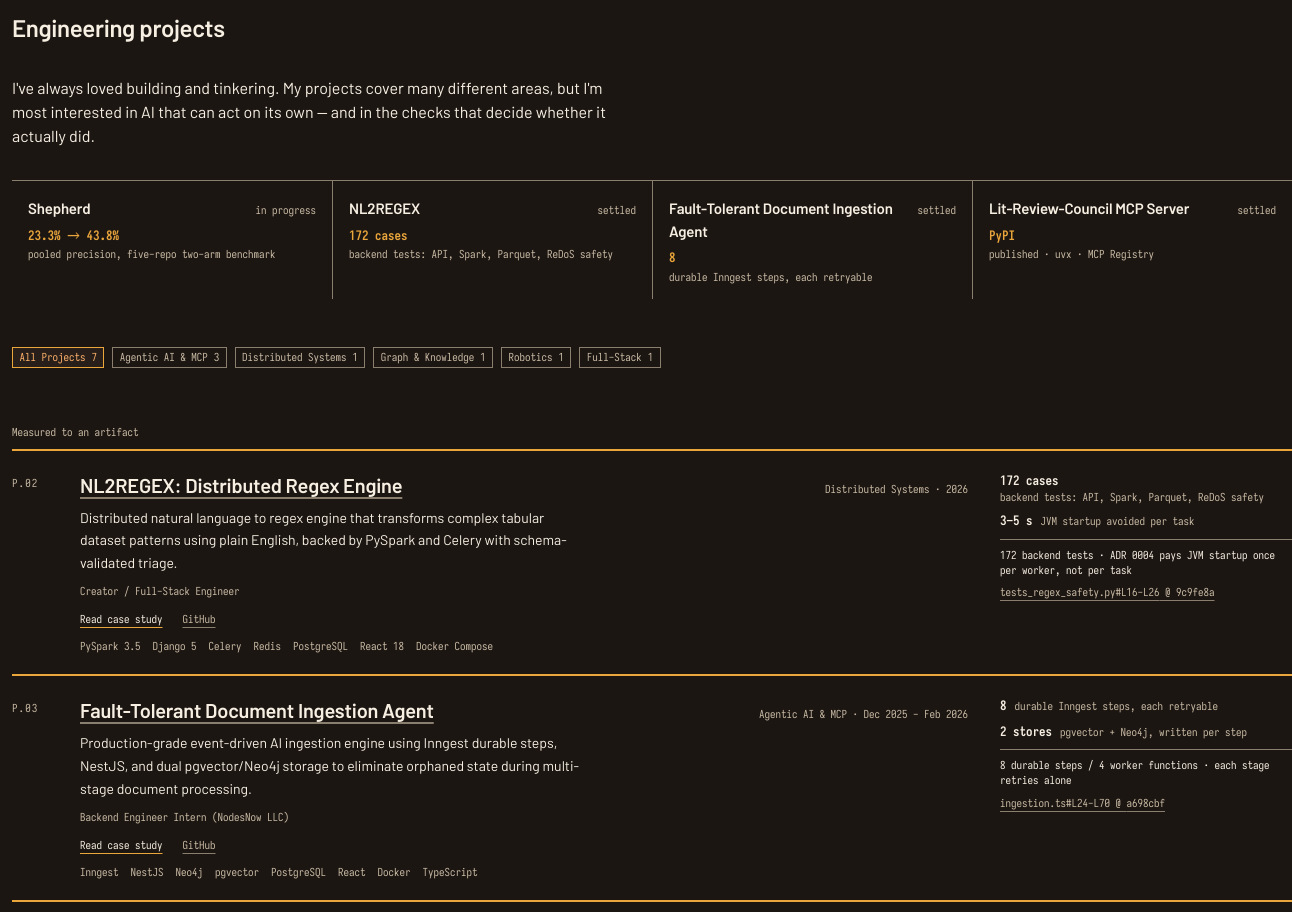
ProjectsView Component › Catalog Rendering and Filtering › filters correctly for Robotics category
Click the button "Robotics1". click: (536, 357)
box: [501,347,571,368]
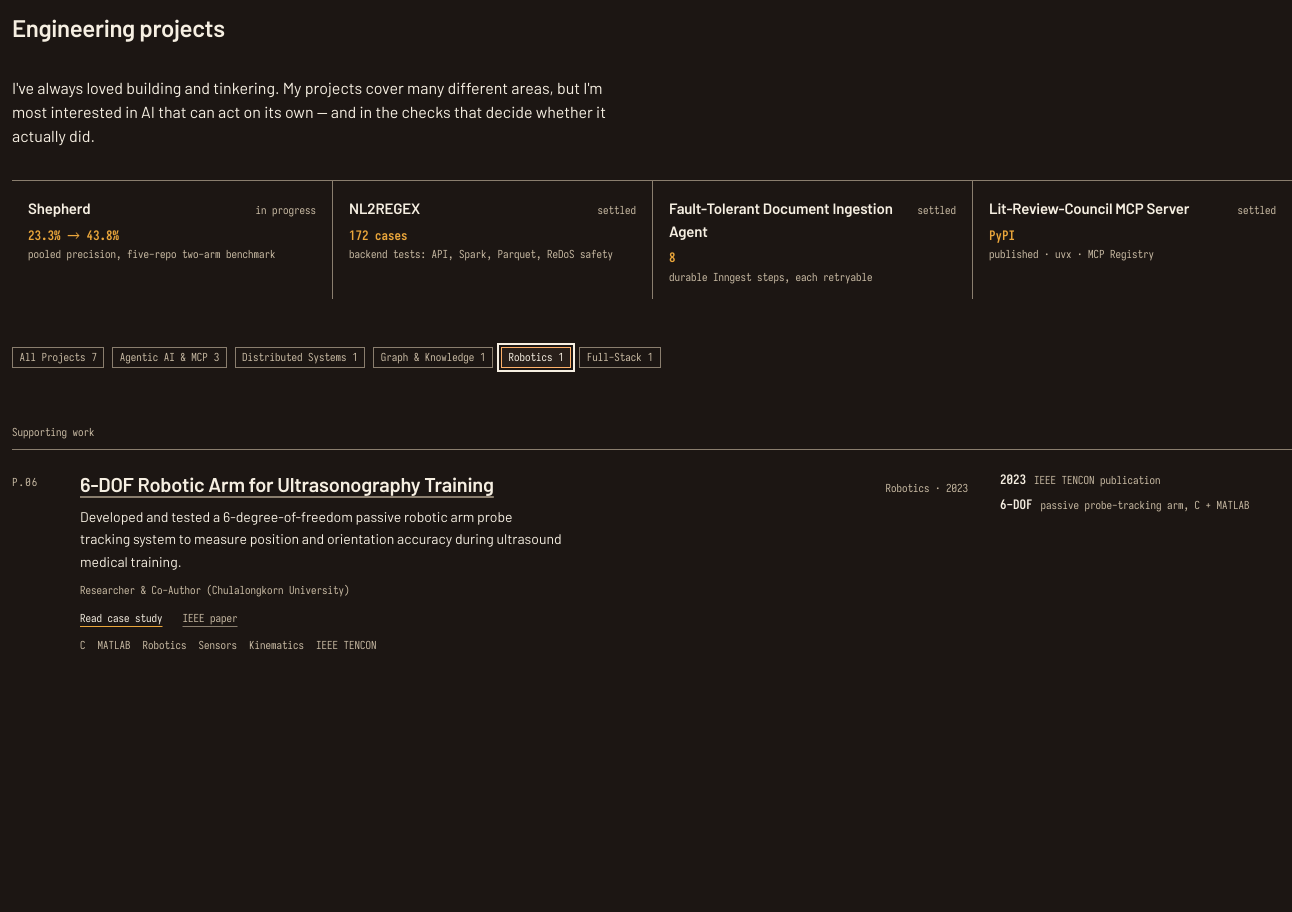
Expected: the element with test id "project-card-robotic-arm-ultrasound" is shown, [12,448,1291,673]
Expected: the element with test id "project-card-nl2regex" is gone
